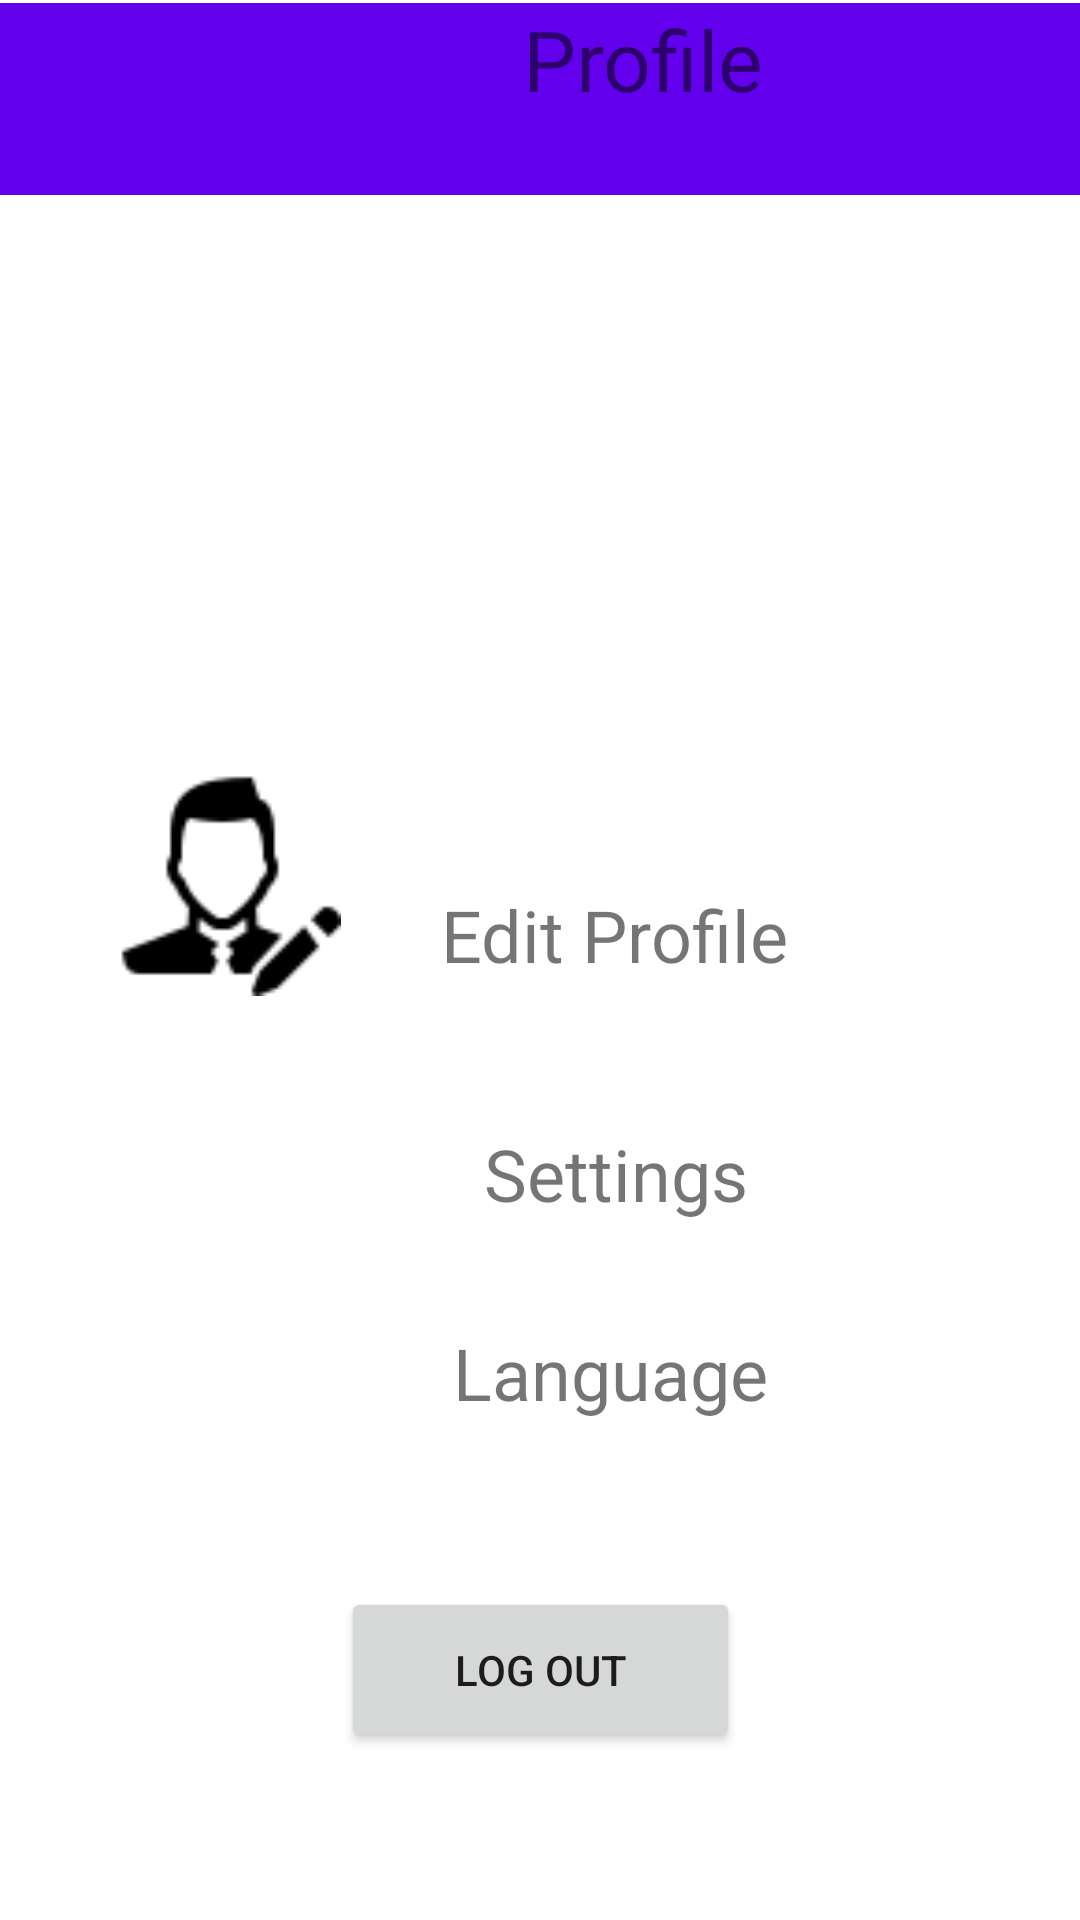

Screen size 1080 x 1920. Icon name, then its center in pixels as point (x, y):
edit account: point (231, 886)
